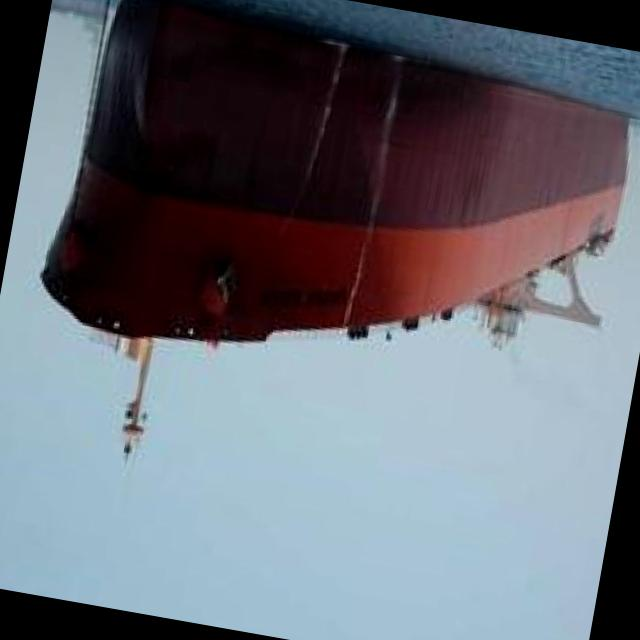ship2: (40, 0, 631, 460)
